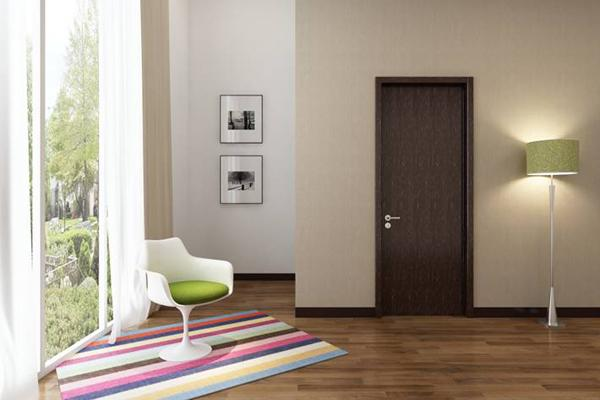door: (382, 88, 469, 312)
